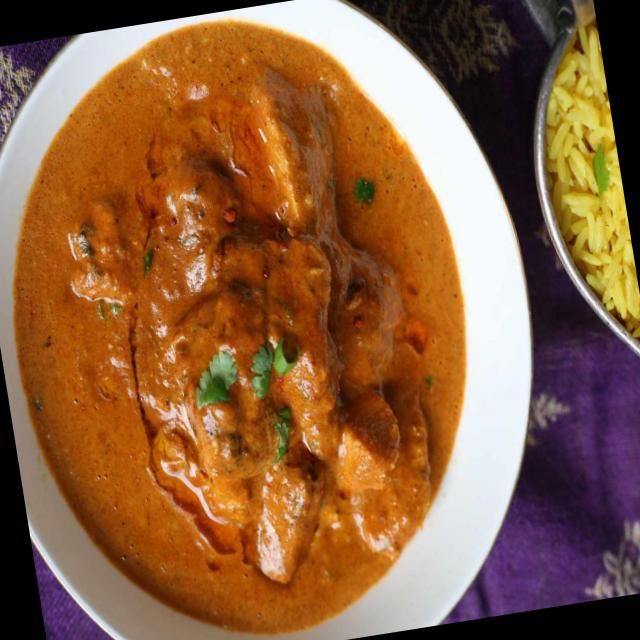chicken: (0, 26, 503, 640)
